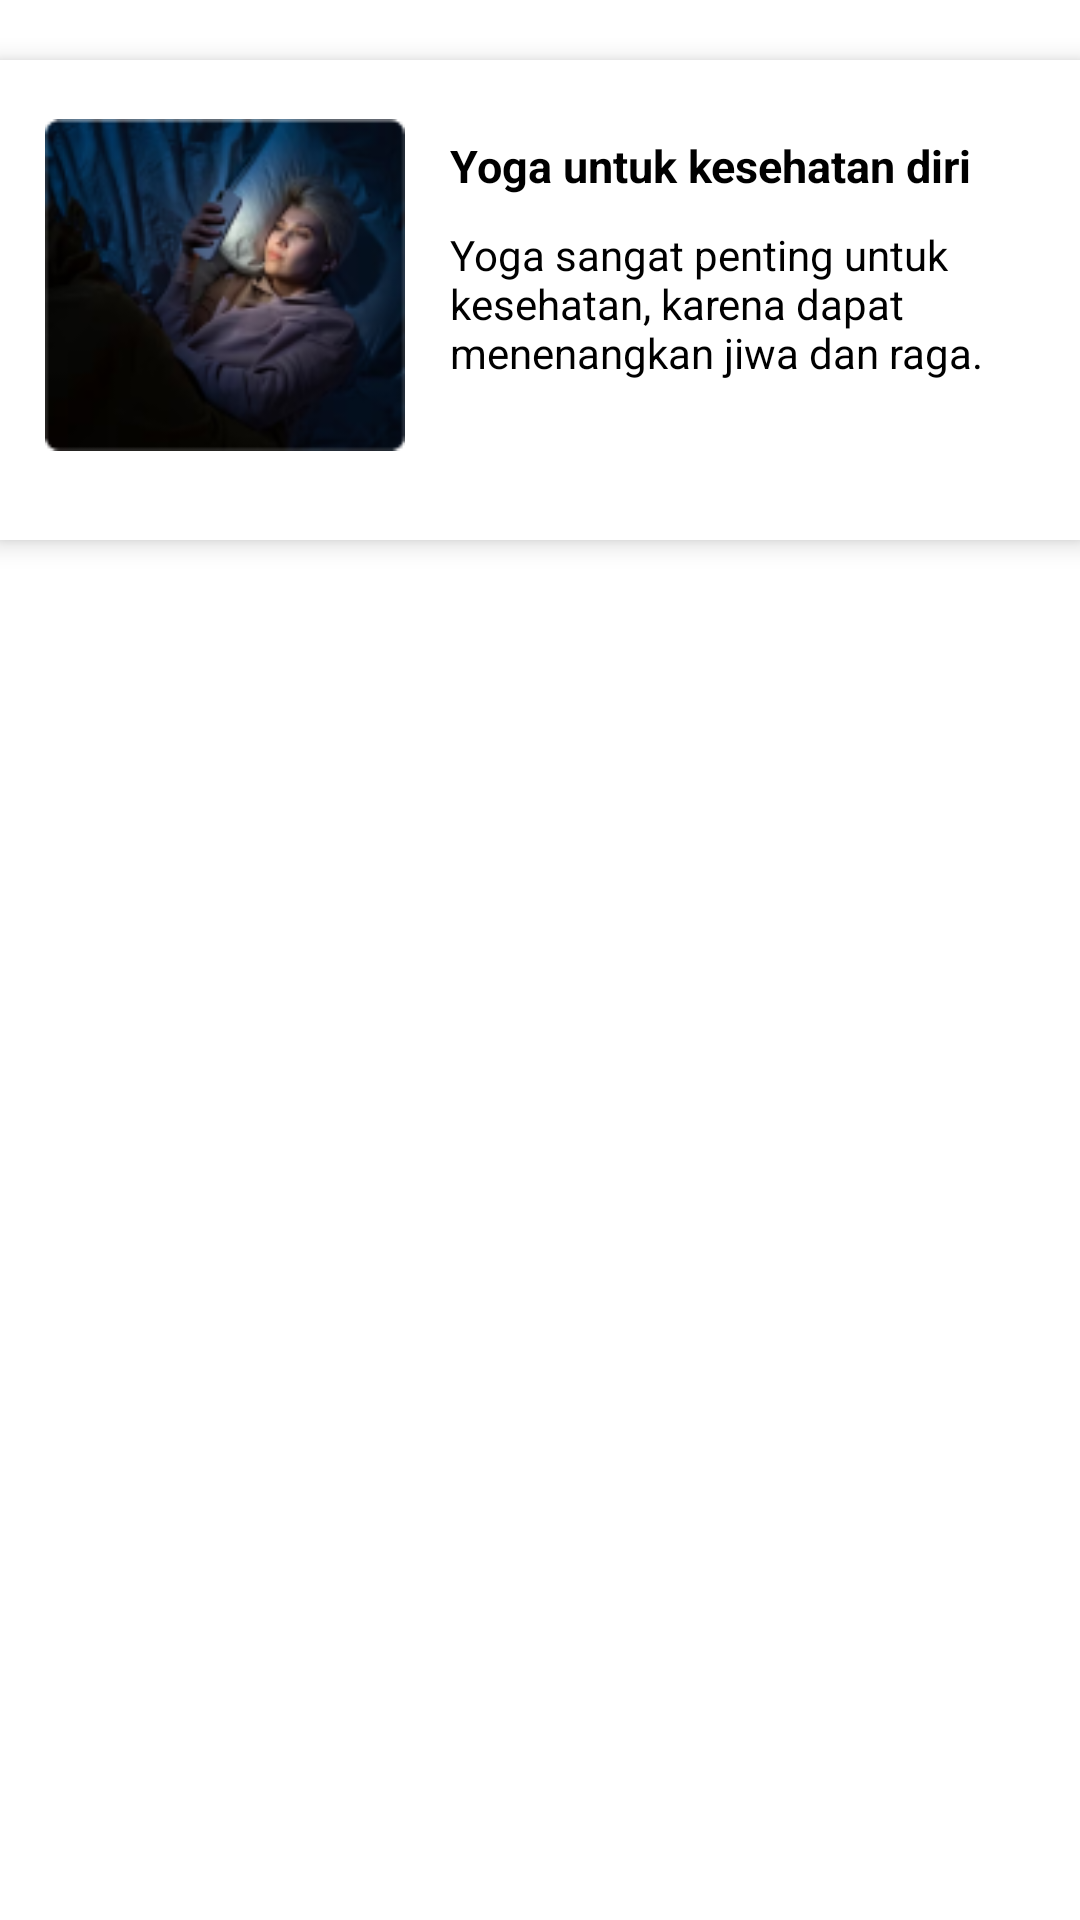

Locate icon controls on the screen. Image size 1080 x 1920, boxes as (x1, y1, x2, y2).
sleep: (45, 119, 405, 451)
